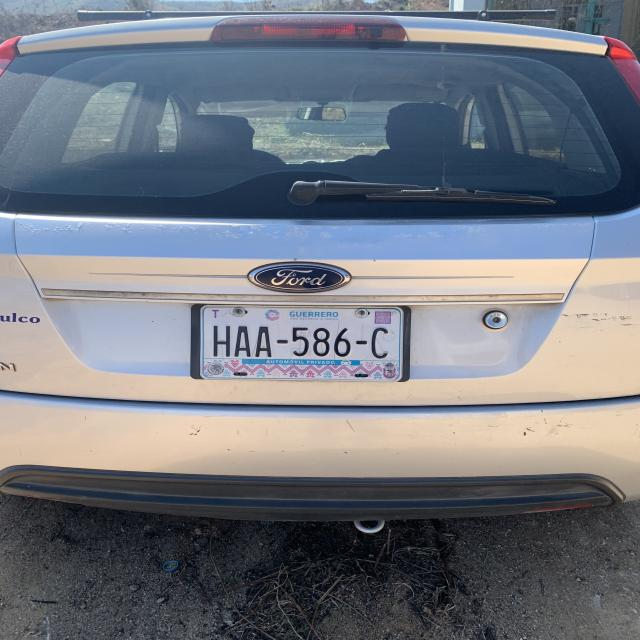placa: (201, 319, 406, 364)
